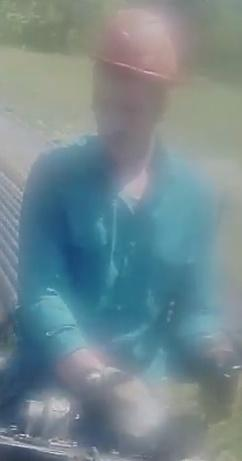gloves: (76, 361, 184, 457), (184, 320, 242, 403)
helmet: (89, 5, 180, 86)
vest: (21, 134, 221, 369)
